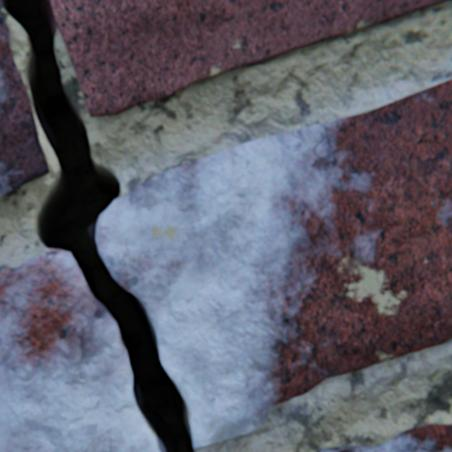brick: (51, 0, 451, 117), (0, 0, 49, 197), (316, 424, 451, 451)
broken_brick: (96, 80, 451, 447), (0, 250, 159, 451)
crack: (2, 0, 195, 451)
